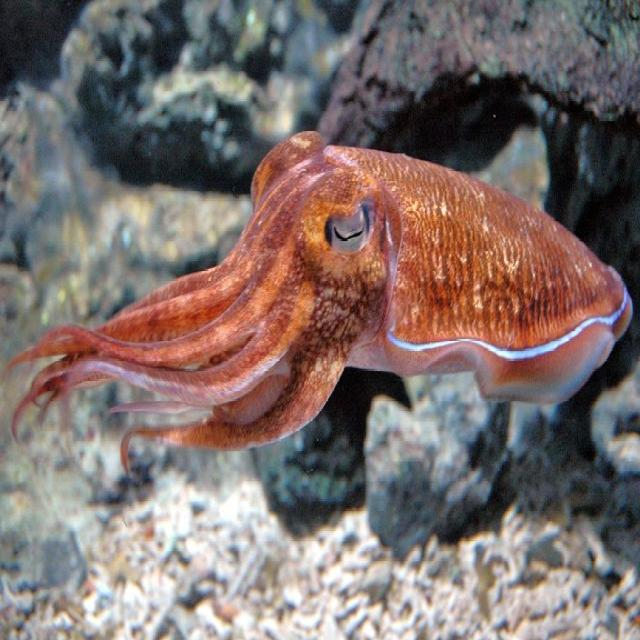SQUID: (0, 116, 640, 471)
